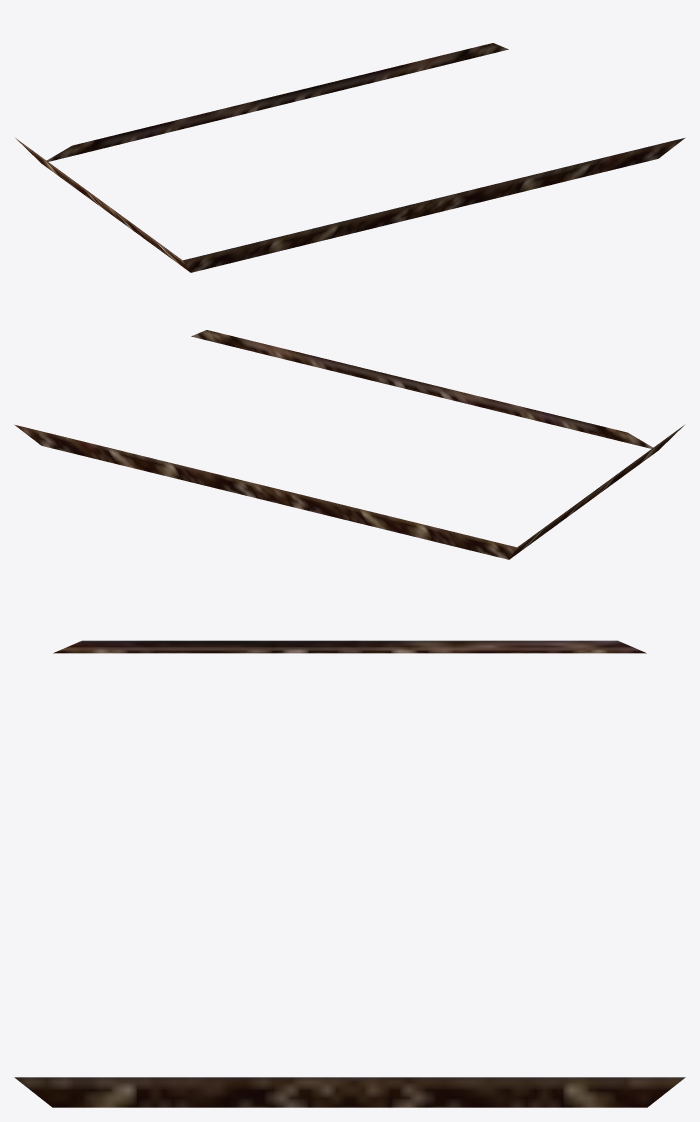
3 renders of one model, top to bottom at view 1: azimuth 30°, elevation 25°; view 2: azimuth 150°, elevation 25°; view 3: azimuth 270°, elevation 25°, orthographic. The views are drawn at different scales.
Visible parts, largest first — view 1: model_Object98; view 2: model_Object98; view 3: model_Object98.
Part boxes in pixels (bbox=[...]): model_Object98: bbox=[15, 43, 685, 272]; model_Object98: bbox=[14, 330, 684, 559]; model_Object98: bbox=[14, 640, 685, 1107].
Size of the model in its own units: 1.69 by 0.077 by 0.9816.
Materials: 2 (2 with a texture image).
